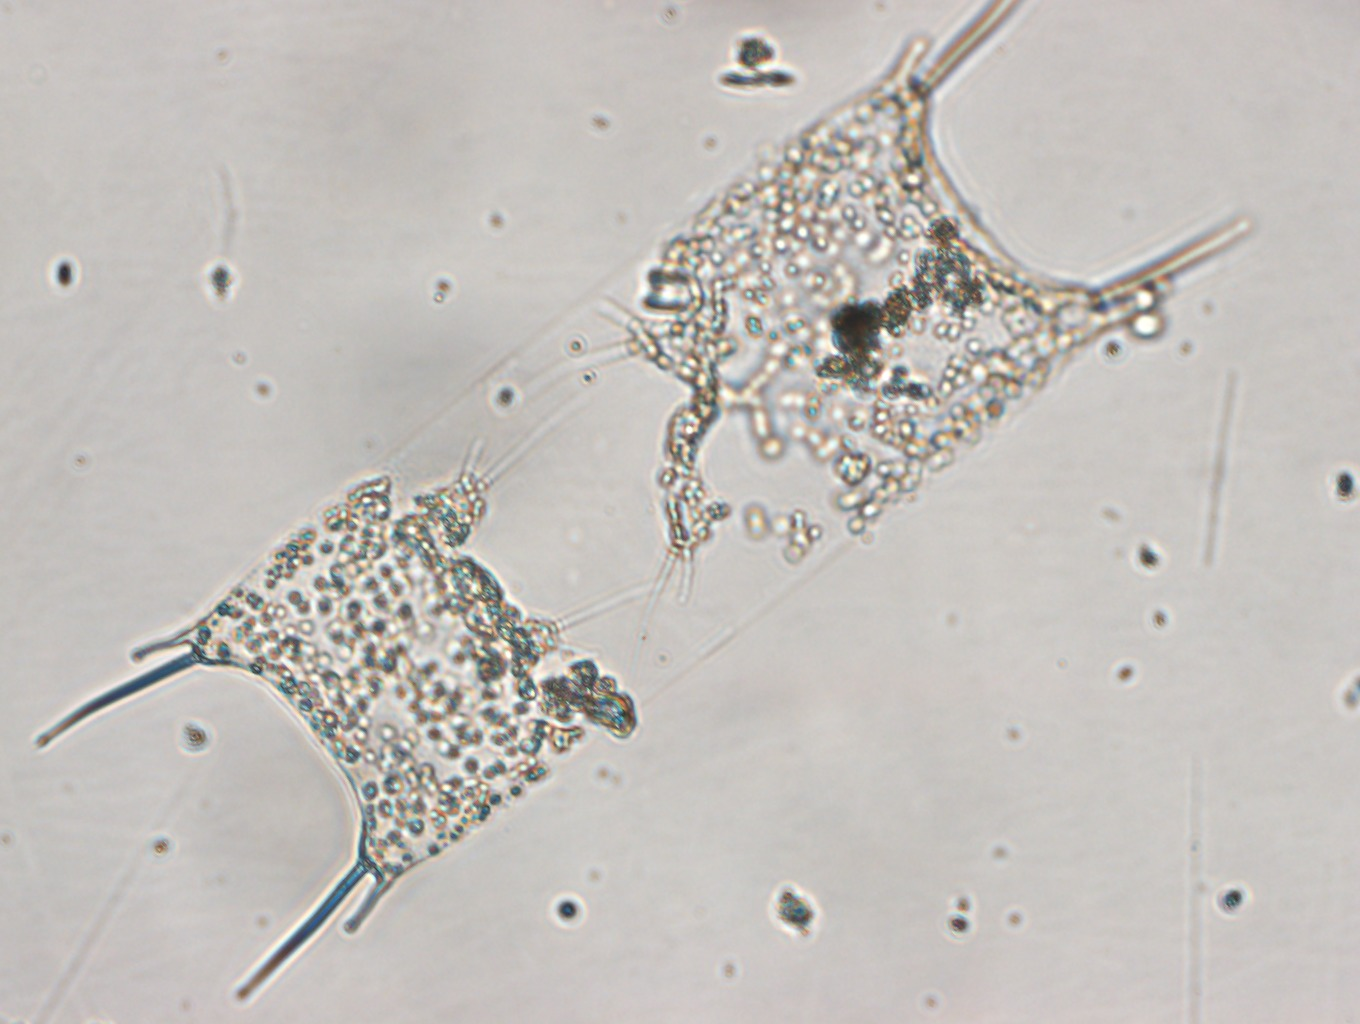biddulphia: (34, 1, 1252, 1002)
